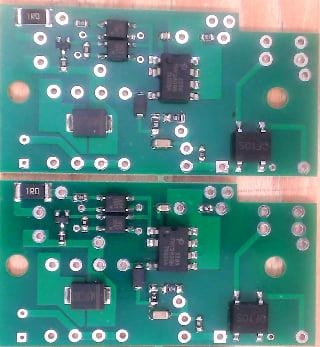chip-capacitor: (150, 138, 176, 151), (147, 308, 174, 320), (158, 31, 175, 42), (156, 203, 173, 214)
chip-resistor: (13, 6, 54, 28), (12, 181, 53, 203), (162, 111, 187, 124), (147, 282, 160, 307), (161, 282, 185, 295), (149, 112, 161, 137), (194, 314, 205, 334), (71, 192, 89, 204), (197, 144, 208, 163), (197, 203, 215, 214), (82, 40, 92, 59), (72, 18, 90, 28), (80, 214, 89, 234), (59, 56, 69, 73), (57, 230, 67, 247), (199, 32, 215, 42)
diode: (63, 280, 113, 311), (64, 108, 114, 138), (133, 91, 148, 120), (131, 263, 146, 290)
ic: (147, 52, 201, 103), (145, 224, 200, 273), (231, 119, 272, 174), (230, 289, 269, 343), (97, 19, 137, 41), (97, 40, 137, 62), (95, 194, 135, 214), (96, 214, 135, 233)
transistor: (55, 35, 72, 55), (54, 209, 70, 229)
